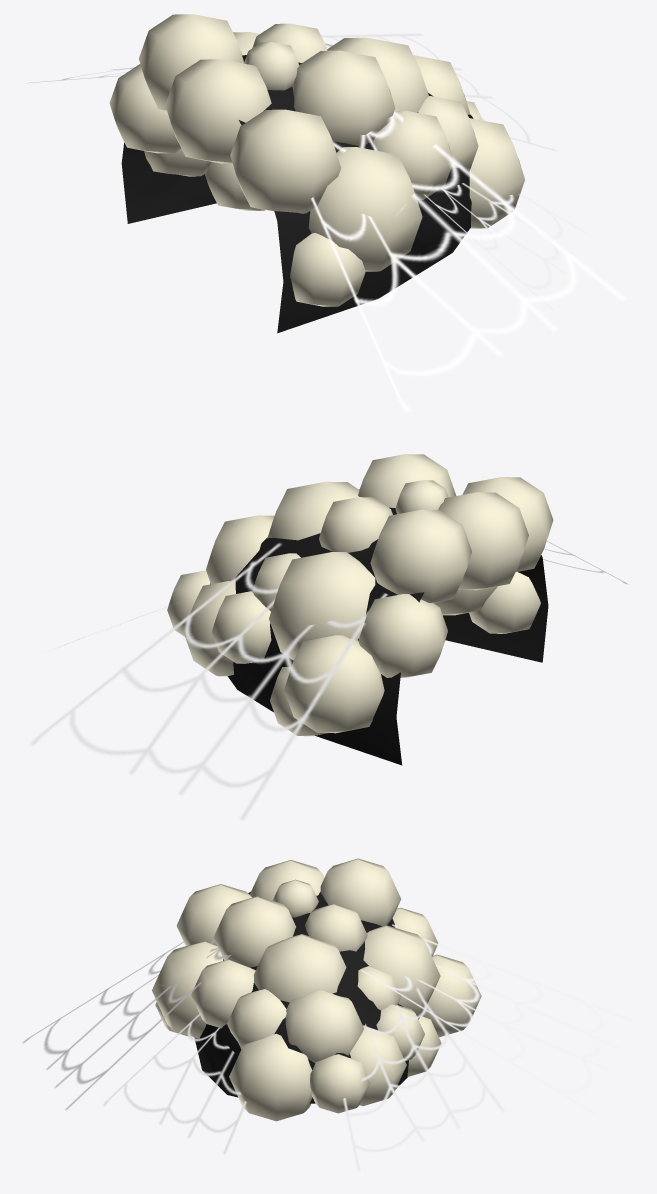
File: SpiderSpawnersDecoration.glb
3 renders of one model, top to bottom at view 1: azimuth 30°, elevation 25°; view 2: azimuth 150°, elevation 25°; view 3: azimuth 270°, elevation 25°, orthographic. The views are drawn at different scales.
Visible parts, largest first — view 1: SpiderSpawner1-con, Web4, Web2, Web1; view 2: SpiderSpawner1-con, Web3; view 3: SpiderSpawner1-con, Web3, Web1, Web4, Web2.
Boxes of the visible parts, bbox=[...] form: SpiderSpawner1-con: bbox=[109, 14, 524, 333]; Web4: bbox=[311, 110, 626, 411]; Web2: bbox=[423, 183, 587, 310]; Web1: bbox=[321, 33, 557, 151]; SpiderSpawner1-con: bbox=[167, 454, 553, 765]; Web3: bbox=[29, 543, 387, 820]; SpiderSpawner1-con: bbox=[152, 858, 481, 1121]; Web3: bbox=[360, 924, 633, 1113]; Web1: bbox=[343, 988, 505, 1171]; Web4: bbox=[22, 939, 232, 1110]; Web2: bbox=[103, 1014, 246, 1154].
Size of the model in its own units: 3.13 by 1.67 by 5.04.
1 material, 1 textured.
